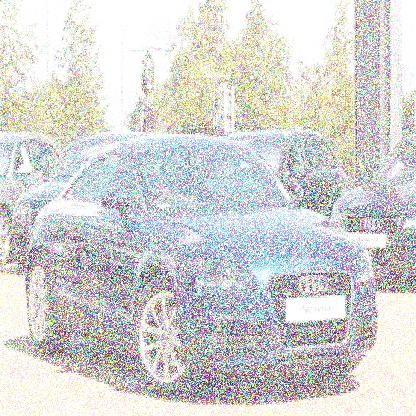Vehicle: (21, 130, 386, 400)
